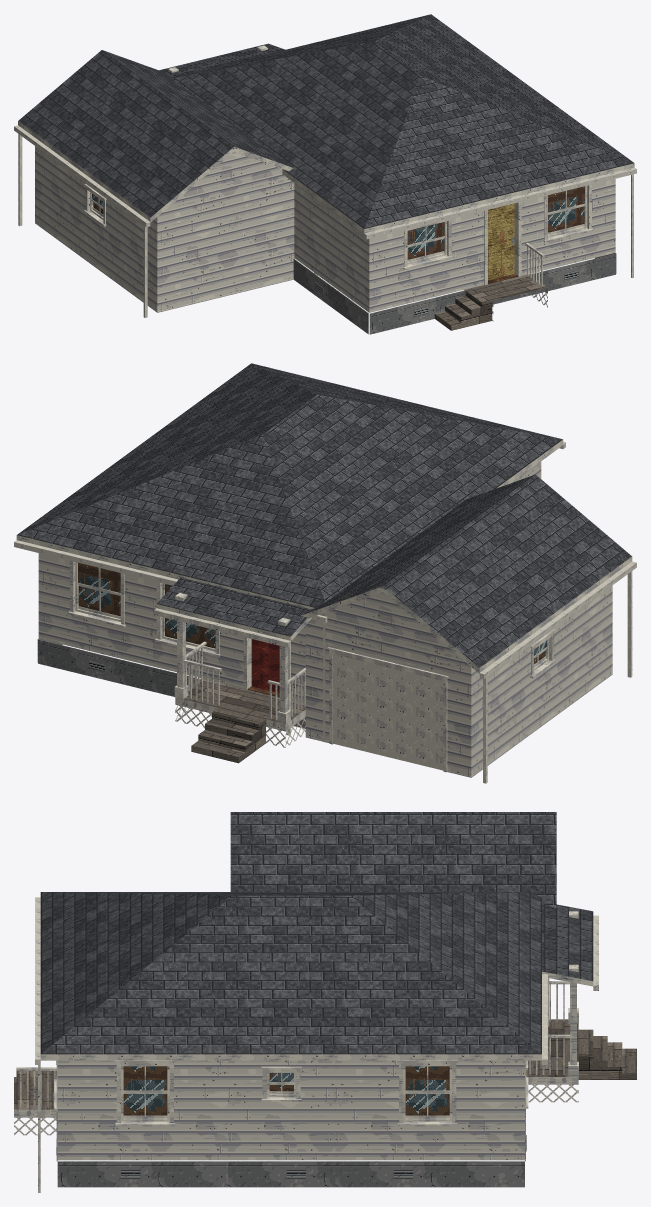
Rendered from RES_House_Ranch.obj.
3 views of the same model, one above another, from view 1: azimuth 30°, elevation 25°; view 2: azimuth 150°, elevation 25°; view 3: azimuth 270°, elevation 25° (orthographic). The views are drawn at different scales.
Parts seen in each view (by area): view 1: RES_House_Ranch_Exterior_M_Arch_RoofShinglesDarkGray, RES_House_Ranch_Exterior_M_Arch_SidingWhite, RES_House_Ranch_Exterior_M_Arch_TrimPainted, RES_House_Ranch_Exterior_M_Arch_ConcreteFoundation, RES_House_Ranch_Exterior_M_Town_PaintWhite, RES_House_Ranch_Exterior_M_Arch_WoodPlanksAged, RES_House_Ranch_Exterior_M_Arch_WindowGlassDirty, INT_Door_Back_M_Furn_WoodPainted; view 2: RES_House_Ranch_Exterior_M_Arch_RoofShinglesDarkGray, RES_House_Ranch_Exterior_M_Arch_SidingWhite, RES_House_Ranch_Exterior_M_Arch_TrimPainted, INT_GarageDoor_Garage_M_Town_PaintWhite, RES_House_Ranch_Exterior_M_Town_PaintWhite, RES_House_Ranch_Exterior_M_Arch_WoodPlanksAged, RES_House_Ranch_Exterior_M_Arch_ConcreteFoundation, RES_House_Ranch_Exterior_M_Arch_WindowGlassDirty, INT_Door_Front_M_Town_PaintRed, RES_House_Ranch_Exterior_M_Res_Lattice; view 3: RES_House_Ranch_Exterior_M_Arch_RoofShinglesDarkGray, RES_House_Ranch_Exterior_M_Arch_SidingWhite, RES_House_Ranch_Exterior_M_Arch_ConcreteFoundation, RES_House_Ranch_Exterior_M_Arch_TrimPainted, RES_House_Ranch_Exterior_M_Arch_WoodPlanksAged, RES_House_Ranch_Exterior_M_Arch_WindowGlassDirty, RES_House_Ranch_Exterior_M_Town_PaintWhite, RES_House_Ranch_Exterior_M_Res_Lattice, RES_House_Ranch_Exterior_M_Town_VentGrille.
Part boxes in pixels (x1,y1,x2,y2): RES_House_Ranch_Exterior_M_Arch_RoofShinglesDarkGray: (18, 14, 634, 228); RES_House_Ranch_Exterior_M_Arch_SidingWhite: (35, 146, 615, 312); RES_House_Ranch_Exterior_M_Arch_TrimPainted: (18, 45, 634, 306); RES_House_Ranch_Exterior_M_Arch_ConcreteFoundation: (293, 253, 616, 334); RES_House_Ranch_Exterior_M_Town_PaintWhite: (14, 125, 636, 317); RES_House_Ranch_Exterior_M_Arch_WoodPlanksAged: (434, 274, 547, 330); RES_House_Ranch_Exterior_M_Arch_WindowGlassDirty: (92, 186, 584, 259); INT_Door_Back_M_Furn_WoodPainted: (488, 203, 514, 280); RES_House_Ranch_Exterior_M_Arch_RoofShinglesDarkGray: (17, 363, 631, 667); RES_House_Ranch_Exterior_M_Arch_SidingWhite: (38, 461, 612, 777); RES_House_Ranch_Exterior_M_Arch_TrimPainted: (16, 439, 632, 772); INT_GarageDoor_Garage_M_Town_PaintWhite: (333, 654, 443, 770); RES_House_Ranch_Exterior_M_Town_PaintWhite: (14, 441, 636, 783); RES_House_Ranch_Exterior_M_Arch_WoodPlanksAged: (184, 678, 305, 763); RES_House_Ranch_Exterior_M_Arch_ConcreteFoundation: (37, 638, 305, 728); RES_House_Ranch_Exterior_M_Arch_WindowGlassDirty: (78, 562, 546, 664); INT_Door_Front_M_Town_PaintRed: (251, 639, 279, 693); RES_House_Ranch_Exterior_M_Res_Lattice: (175, 705, 305, 747); RES_House_Ranch_Exterior_M_Arch_RoofShinglesDarkGray: (40, 812, 593, 1054); RES_House_Ranch_Exterior_M_Arch_SidingWhite: (57, 1060, 524, 1160); RES_House_Ranch_Exterior_M_Arch_ConcreteFoundation: (56, 1108, 525, 1187); RES_House_Ranch_Exterior_M_Arch_TrimPainted: (14, 911, 593, 1126); RES_House_Ranch_Exterior_M_Arch_WoodPlanksAged: (14, 1019, 636, 1109); RES_House_Ranch_Exterior_M_Arch_WindowGlassDirty: (123, 1066, 449, 1115); RES_House_Ranch_Exterior_M_Town_PaintWhite: (35, 897, 598, 1192); RES_House_Ranch_Exterior_M_Res_Lattice: (14, 1084, 578, 1135); RES_House_Ranch_Exterior_M_Town_VentGrille: (56, 1061, 526, 1178).
Size of the model in its own units: 12.02 by 4.92 by 12.8.
Materials: 26 (25 with a texture image).
